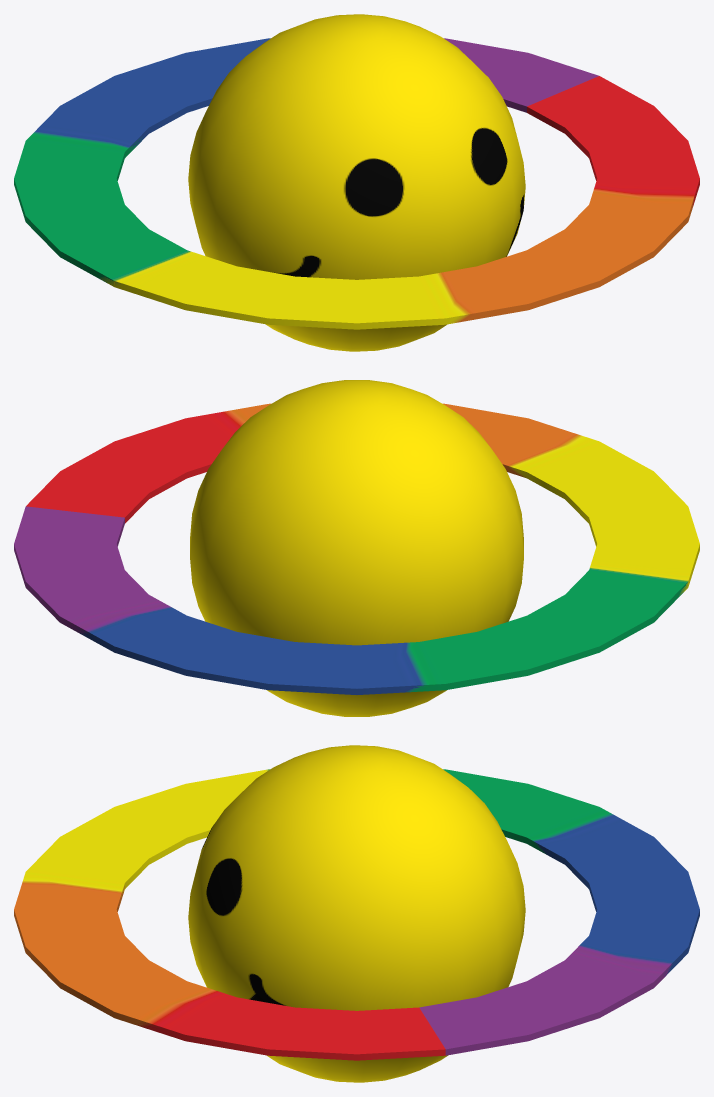
The model's file is planet4.fbx.
3 views of the same model, one above another, from view 1: azimuth 30°, elevation 25°; view 2: azimuth 150°, elevation 25°; view 3: azimuth 270°, elevation 25° (orthographic).
Visible parts, largest first — view 1: planet4; view 2: planet4; view 3: planet4.
Part boxes in pixels (left/top/right/bottom): planet4: left=14, top=14, right=699, bottom=351; planet4: left=14, top=380, right=699, bottom=716; planet4: left=14, top=745, right=699, bottom=1082.
Bounding box in the file's own units: 111 × 54.48 × 111.
Materials: 2 (2 with a texture image).
